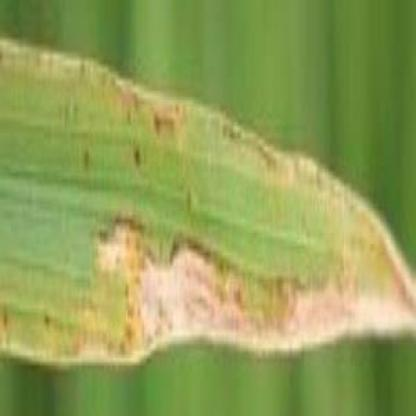Blight: (73, 197, 416, 380)
